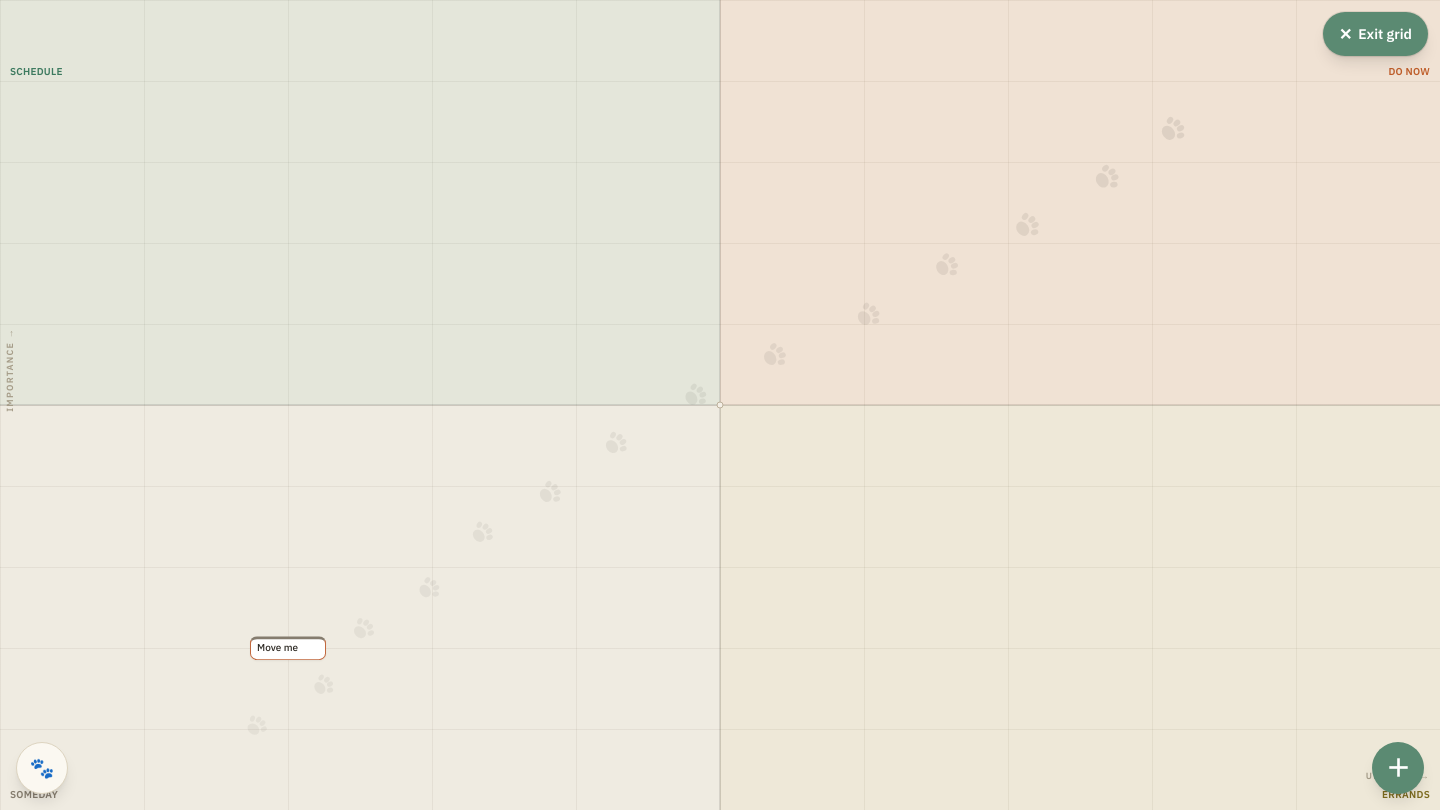
Test: TouchGridSurface move mode (tap-to-place) › Move arms the banner; a canvas tap commits the new position and disarms
Step 1. Click the button "Move me" → point(288, 648), box [250,636,326,660]
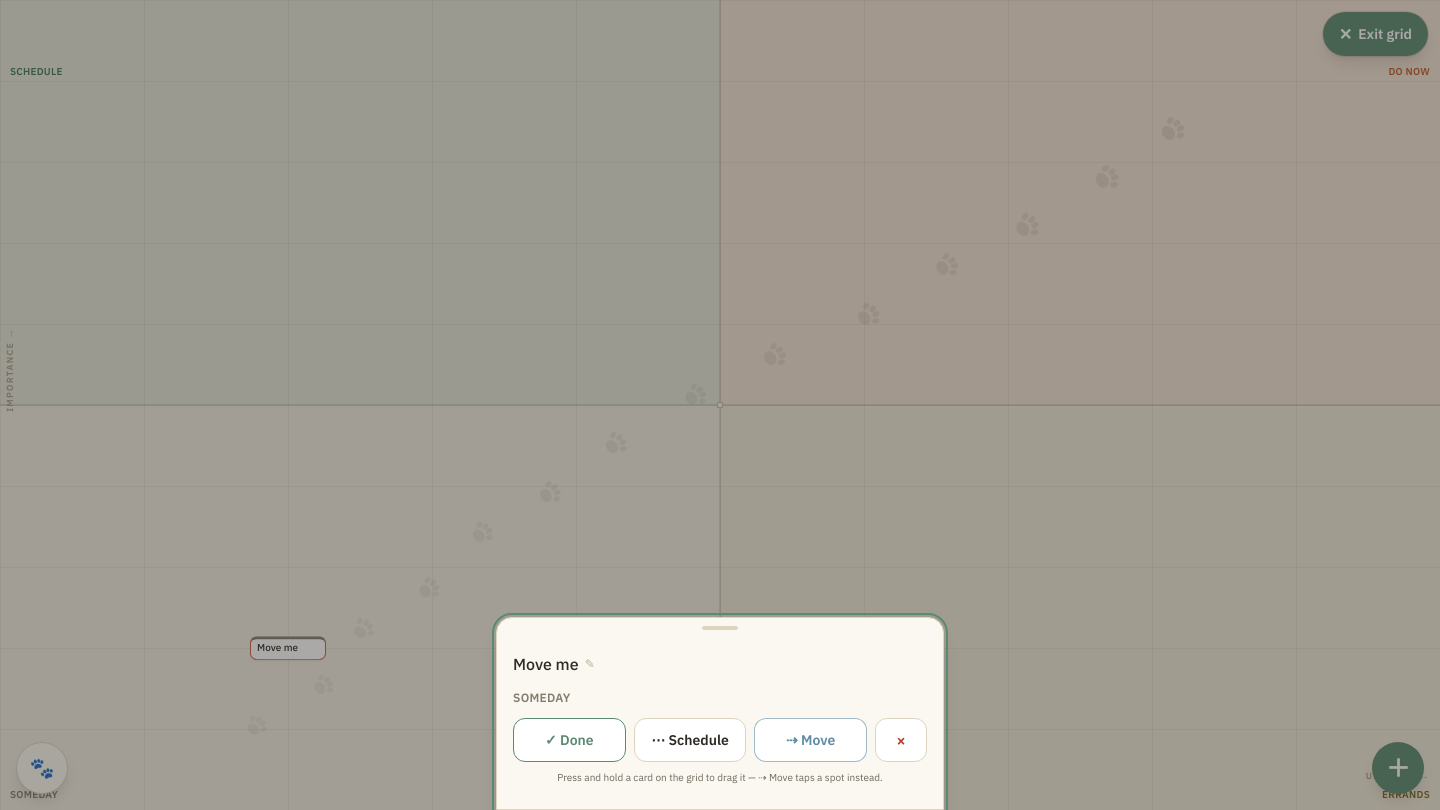
Step 2. Click the button "⇢ Move" → point(811, 740), box [754,718,867,762]
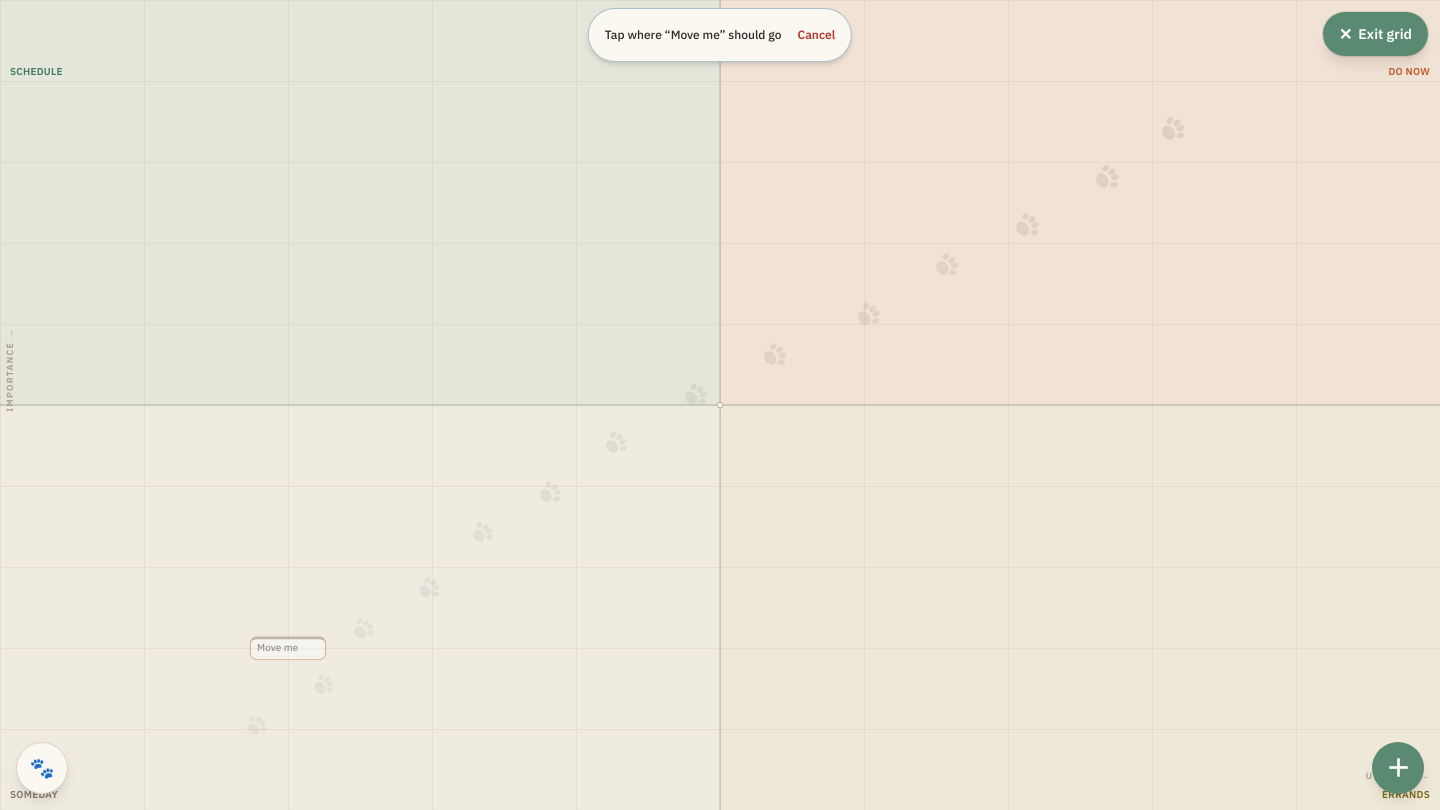
Expected: the text "Tap where “Move me” should go" is shown, [605,27,782,43]
Step 3. Press the mouse on the element with test id "touch-grid-canvas" → point(720, 405), box [0,0,1439,809]
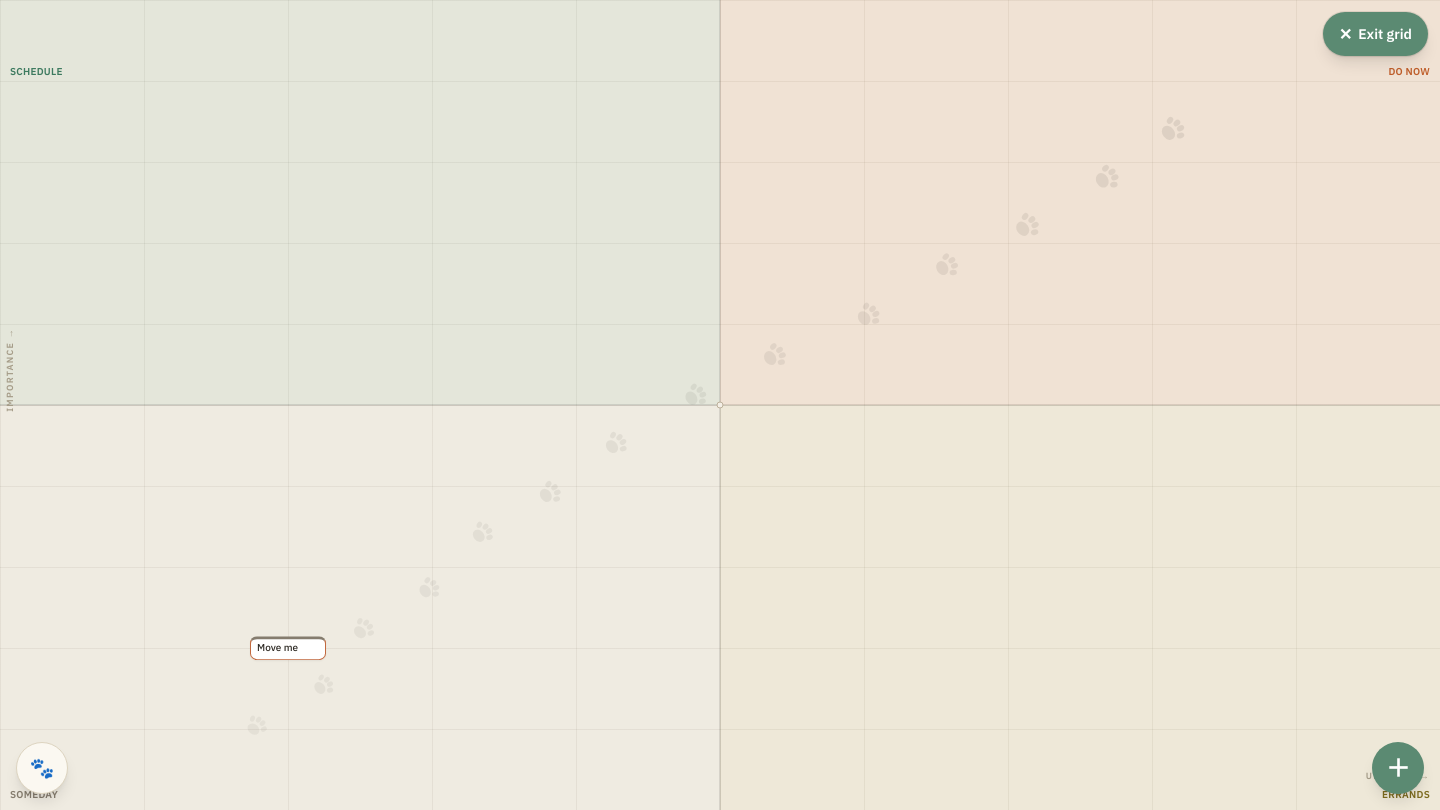
Expected: the text "Tap where" is gone
